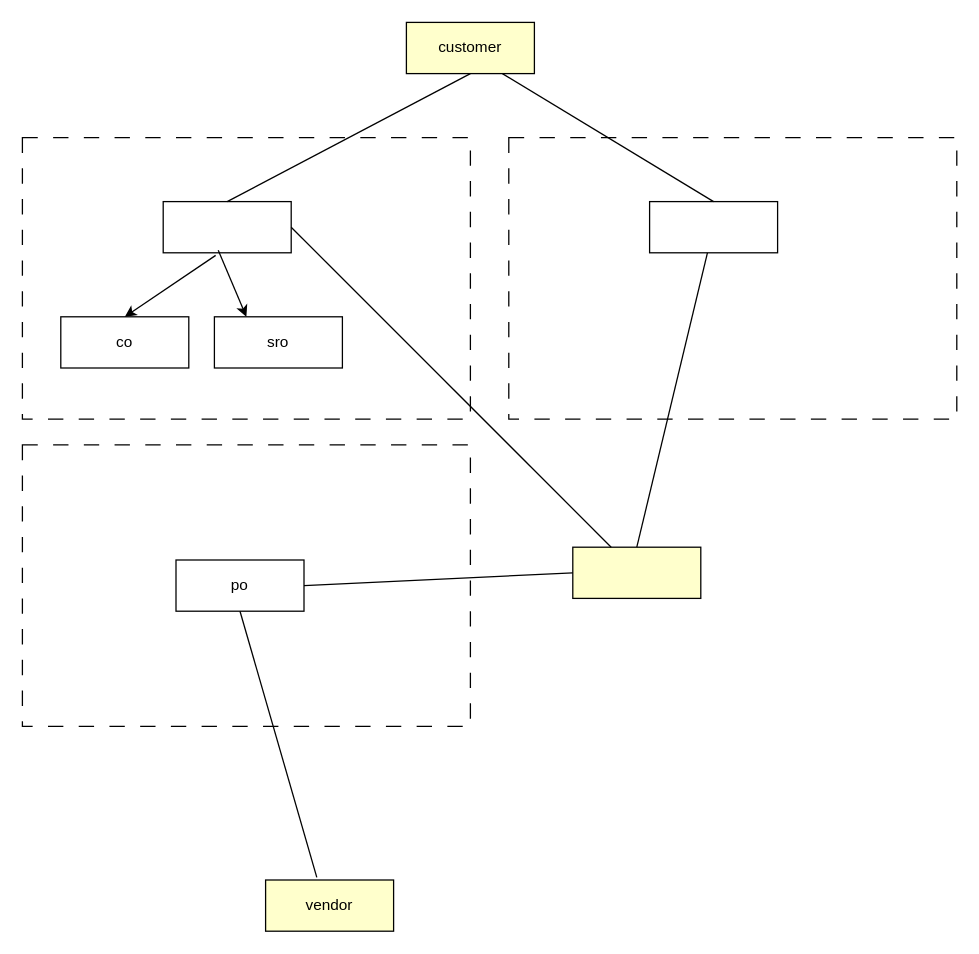
Some shapes in this 979 by 954 pixel diagram are drawn without their labels. Each missing label, with the centre of its shape:
"booking" belongs at pixel 226 226.
"invoice" belongs at pixel 713 226.
"item" belongs at pixel 636 572.
